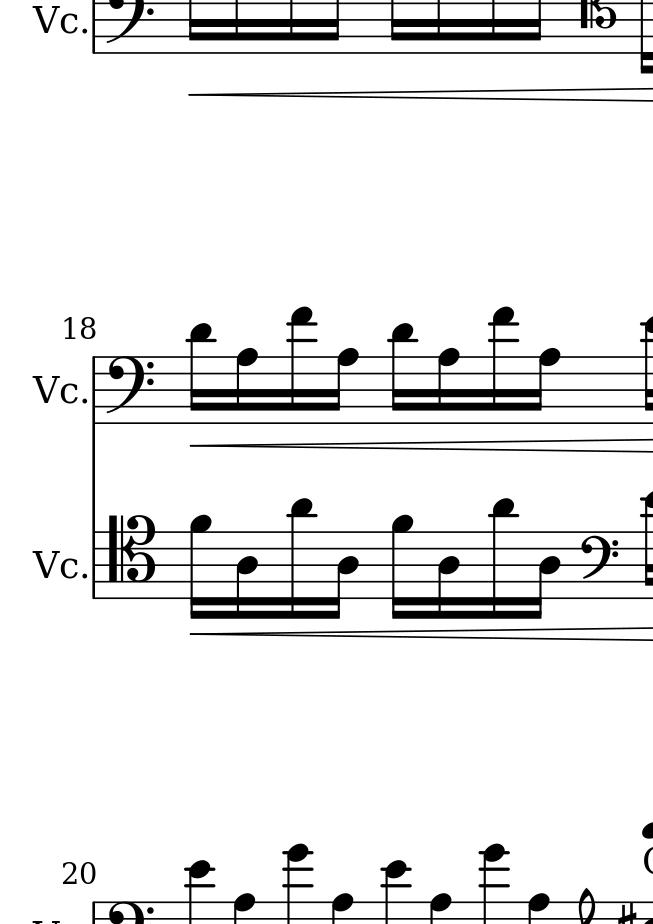0: (79, 858, 96, 886)
1: (63, 312, 76, 341)
16_11: (487, 498, 518, 620), (286, 498, 316, 621), (187, 323, 216, 426), (387, 323, 416, 426)
16_13: (488, 305, 519, 425), (287, 306, 316, 425)
16_4: (529, 530, 561, 620), (330, 530, 359, 622), (232, 528, 260, 622), (436, 529, 461, 622)
16_8: (530, 346, 562, 425), (329, 346, 360, 426), (232, 345, 259, 425), (436, 346, 461, 425)
16_9: (390, 513, 416, 622), (188, 514, 212, 622)
2: (61, 858, 79, 885)
8: (76, 313, 96, 340)
Crescendo_hairpin: (189, 624, 653, 644), (188, 86, 653, 105), (188, 437, 653, 456)
Fclef: (106, 356, 159, 425), (579, 529, 621, 599)
Single_barline: (87, 357, 103, 423), (87, 533, 103, 595)
Tensor_Cclef: (105, 511, 158, 601)
